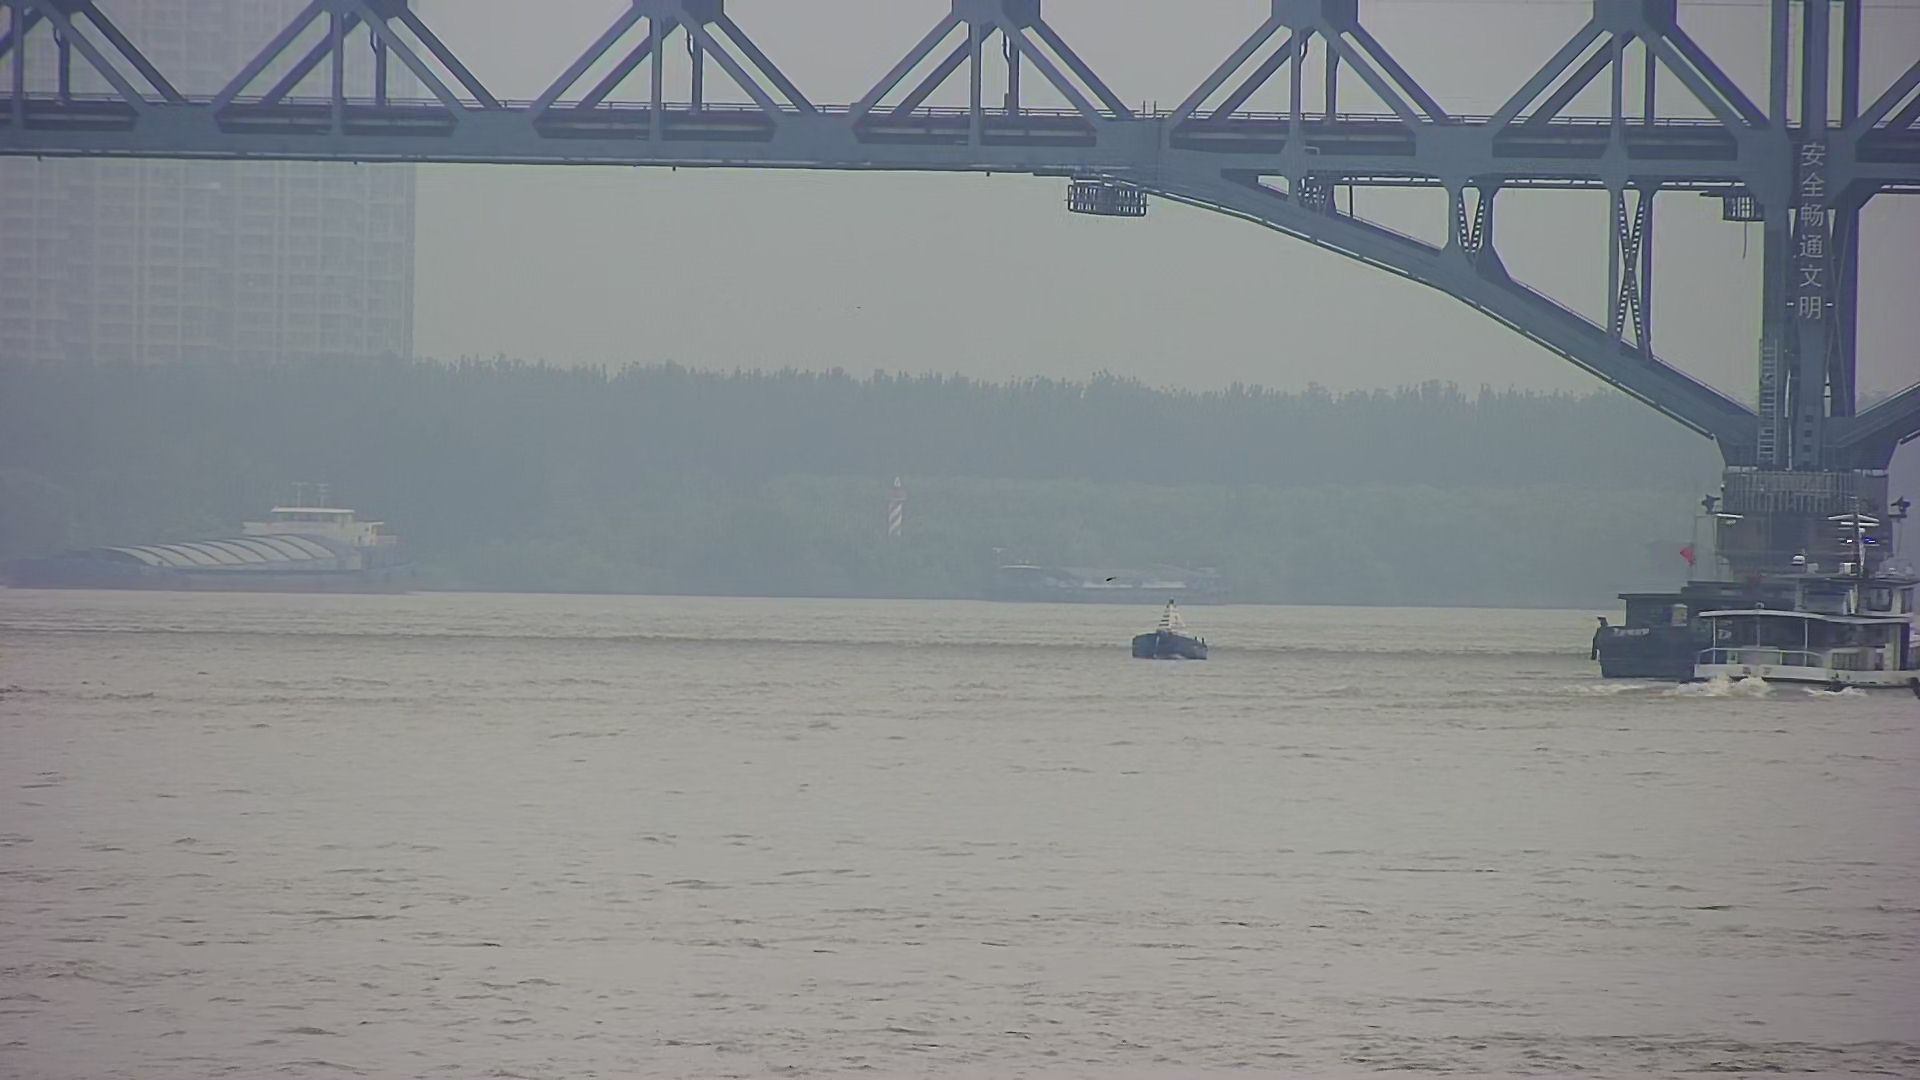boat: (1125, 592, 1218, 669)
bridge: (1, 1, 1920, 589)
ship: (1580, 495, 1920, 702), (1, 467, 440, 605), (977, 529, 1237, 608)
